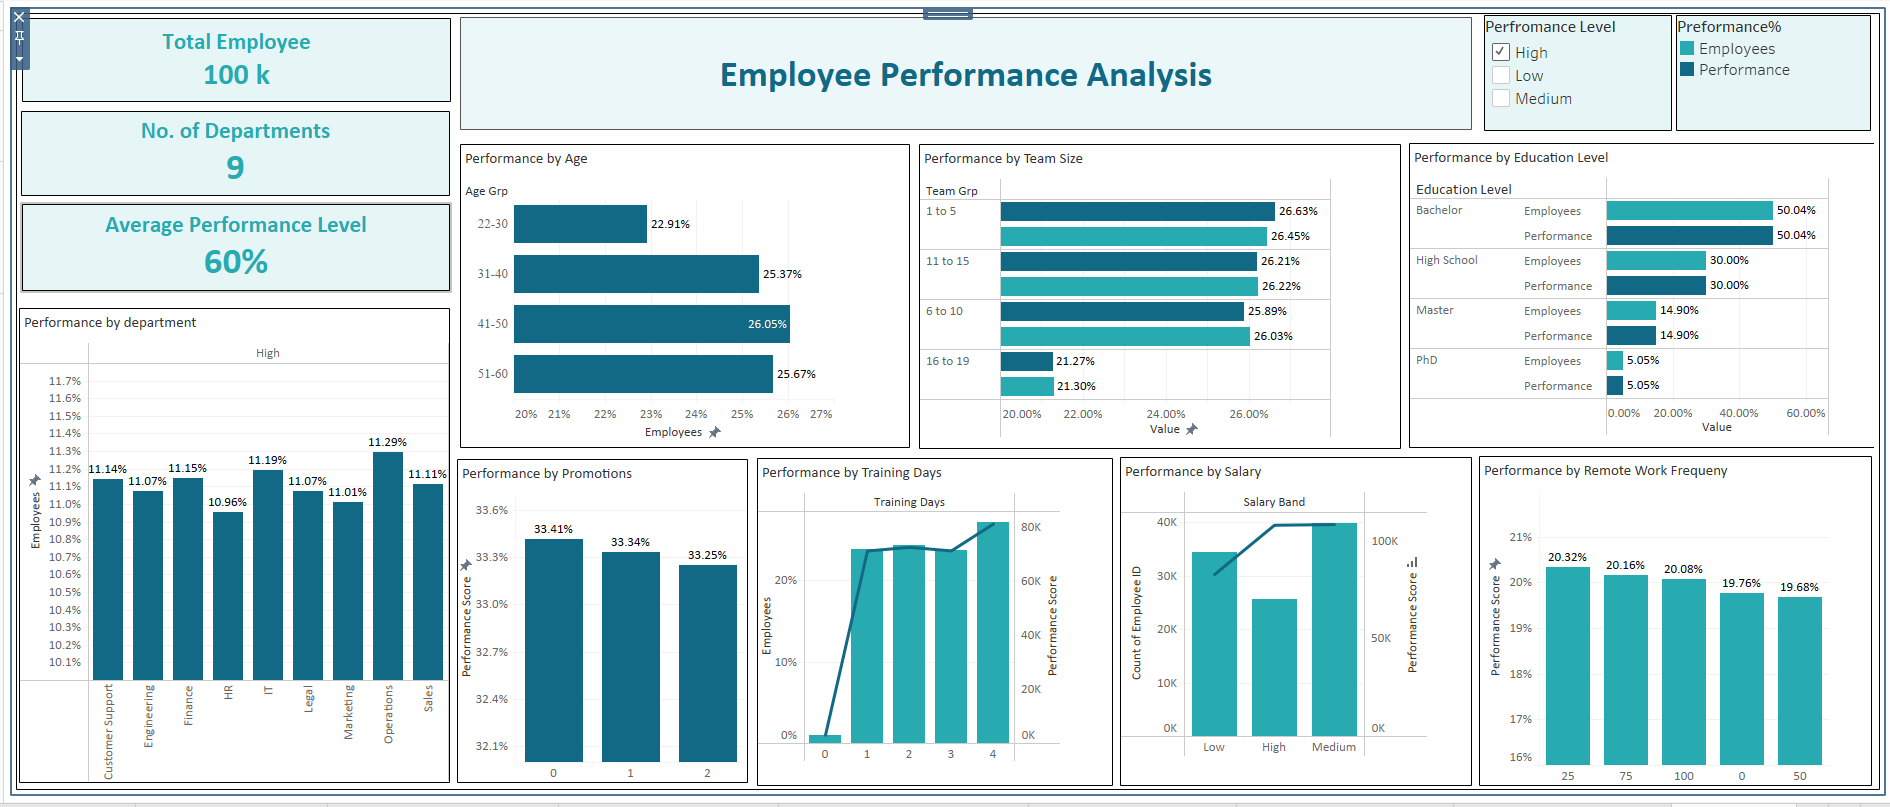

This screenshot's page, from the dashboard's own definition file:
{"tool":"tableau","page":{"name":"Dashboard 1","canvas":[1000,1000],"units":"permille","ordinal":0},"visuals":[{"type":"filter","title":"Performance by department","param":"[federated.1tlit4z0ikbh14109wlzt1dof5rq].[none:Perfromance Level:nk]","box":[783.8,17.5,99.6,144.8]},{"type":"legend","title":"Performance by Education Level","param":"[federated.1tlit4z0ikbh14109wlzt1dof5rq].[:Measure Names]","box":[885.8,17.5,103.1,143.6]},{"type":"text","box":[240.8,18.7,537.2,143.6]},{"type":"text","box":[9.4,21.2,227.3,104.9]},{"type":"text","box":[8.8,137.3,227.3,106.1]},{"type":"worksheet","title":"Performance by Education Level","mark":"Automatic","rows":["Education_Level"],"box":[744,177.3,246.6,380.8]},{"type":"worksheet","title":"Performance by Age","mark":"Automatic","rows":["Age Grp"],"box":[241.4,178.5,238.4,379.5]},{"type":"worksheet","title":"Performance by Team Size","mark":"Automatic","rows":["Team Grp"],"box":[484.5,178.5,255.4,380.8]},{"type":"text","box":[9.4,253.4,226.7,108.6]},{"type":"worksheet","title":"Performance by department","mark":"Automatic","cols":["Perfromance Level","Department"],"box":[8.2,383.3,228.5,593]},{"type":"worksheet","title":"Performance by Remote Work Frequeny","mark":"Automatic","cols":["Remote_Work_Frequency"],"box":[781.5,568,208,412]},{"type":"worksheet","title":"Performance by Salary Band","mark":"Automatic","rows":["Employee_ID","Performance_Score"],"cols":["Salary Band"],"box":[591.1,569.3,186.3,410.7]},{"type":"worksheet","title":"Performance by Training Days","mark":"Automatic","rows":["Performance_Score"],"cols":["Training Days"],"box":[398.9,570.5,188.6,409.5]},{"type":"worksheet","title":"Performance by Promotions","mark":"Automatic","cols":["Promotions"],"box":[240.2,571.8,154.1,404.5]}]}

Visuals, with their boxes on the dashboard's canvas, which has no fixed pixel size, in thousandths of its width and height (x1, y1, x2, y2). These are canvas units, not pixel positions in the 1890x807 screenshot, which may show the page scaled, cropped or inside an application window:
"Performance by department" filter: x1=784, y1=18, x2=883, y2=162
"Performance by Education Level" legend: x1=886, y1=18, x2=989, y2=161
text: x1=241, y1=19, x2=778, y2=162
text: x1=9, y1=21, x2=237, y2=126
text: x1=9, y1=137, x2=236, y2=243
"Performance by Education Level" worksheet: x1=744, y1=177, x2=991, y2=558
"Performance by Age" worksheet: x1=241, y1=178, x2=480, y2=558
"Performance by Team Size" worksheet: x1=484, y1=178, x2=740, y2=559
text: x1=9, y1=253, x2=236, y2=362
"Performance by department" worksheet: x1=8, y1=383, x2=237, y2=976
"Performance by Remote Work Frequeny" worksheet: x1=782, y1=568, x2=990, y2=980
"Performance by Salary Band" worksheet: x1=591, y1=569, x2=777, y2=980
"Performance by Training Days" worksheet: x1=399, y1=570, x2=588, y2=980
"Performance by Promotions" worksheet: x1=240, y1=572, x2=394, y2=976
